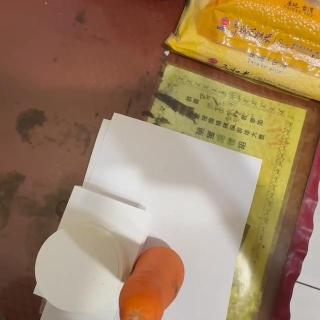carrot: (117, 245, 185, 320)
